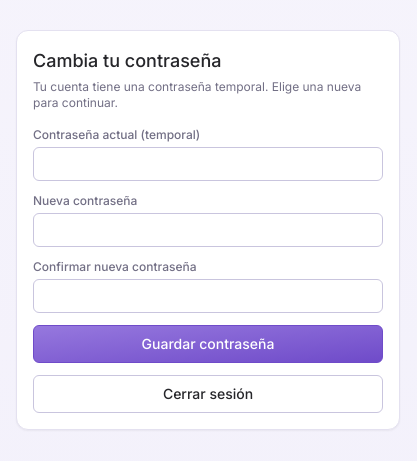
Test: ChangePasswordPage › shows an error and does not submit when the new password is shorter than 8 characters
In the password field labelled "Contraseña actual (temporal)": coordinates (208, 164) [33, 147, 383, 181], type "Temp1234!"
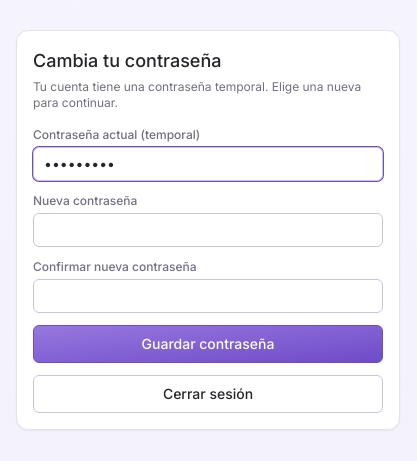
In the password field labelled "Nueva contraseña": coordinates (208, 230) [33, 213, 383, 247], type "short1"
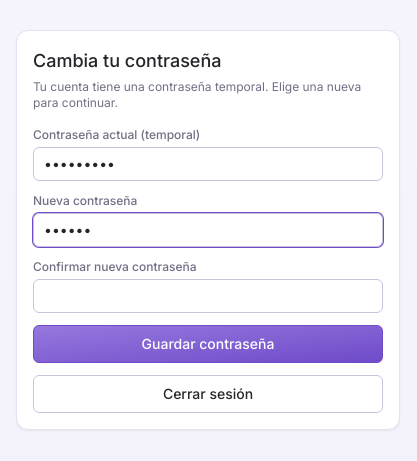
In the password field labelled "Confirmar nueva contraseña": coordinates (208, 296) [33, 279, 383, 313], type "short1"
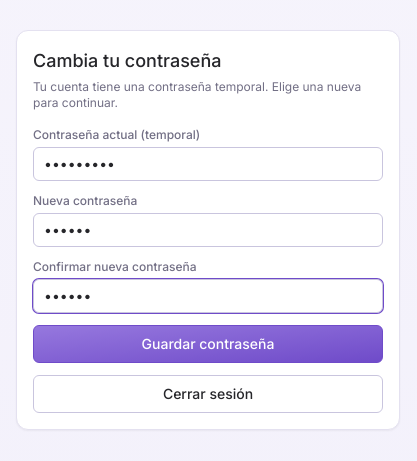
Click the button "Guardar contraseña": coordinates (208, 344) [33, 325, 383, 363]
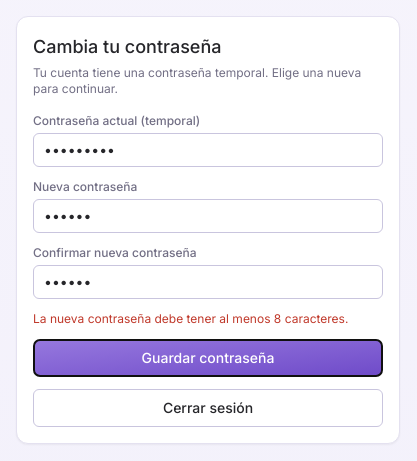
Check: the text "La nueva contraseña debe tener al menos 8 caracteres." is shown, box [33, 311, 383, 327]
